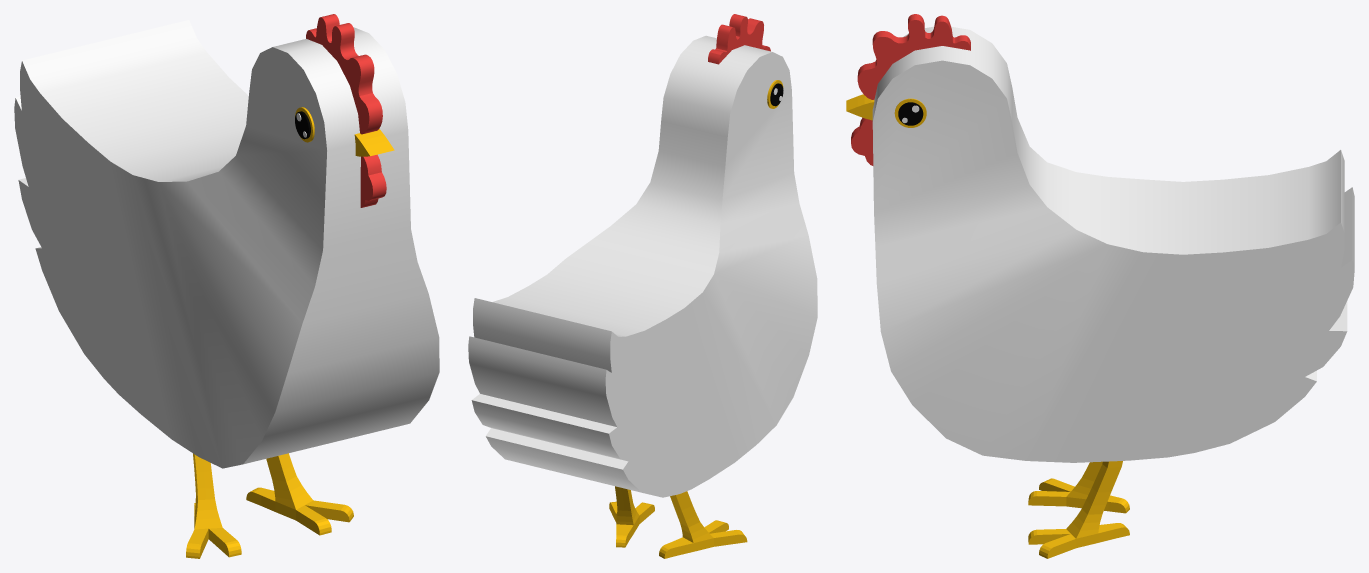
The model's file is rooster.glb.
3 views of the same model, side by side, from view 1: azimuth 30°, elevation 25°; view 2: azimuth 150°, elevation 25°; view 3: azimuth 270°, elevation 25° (orthographic). The views are drawn at different scales.
Visible parts, largest first — view 1: Cube.6276; view 2: Cube.6276; view 3: Cube.6276.
Boxes of the visible parts, box(x1,y1,x2,y2) form: Cube.6276: box(14, 14, 439, 558); Cube.6276: box(468, 14, 817, 558); Cube.6276: box(846, 14, 1354, 558).
Size of the model in its own units: 0.6938 by 2.23 by 2.04.
Materials: 1 (1 with a texture image).
